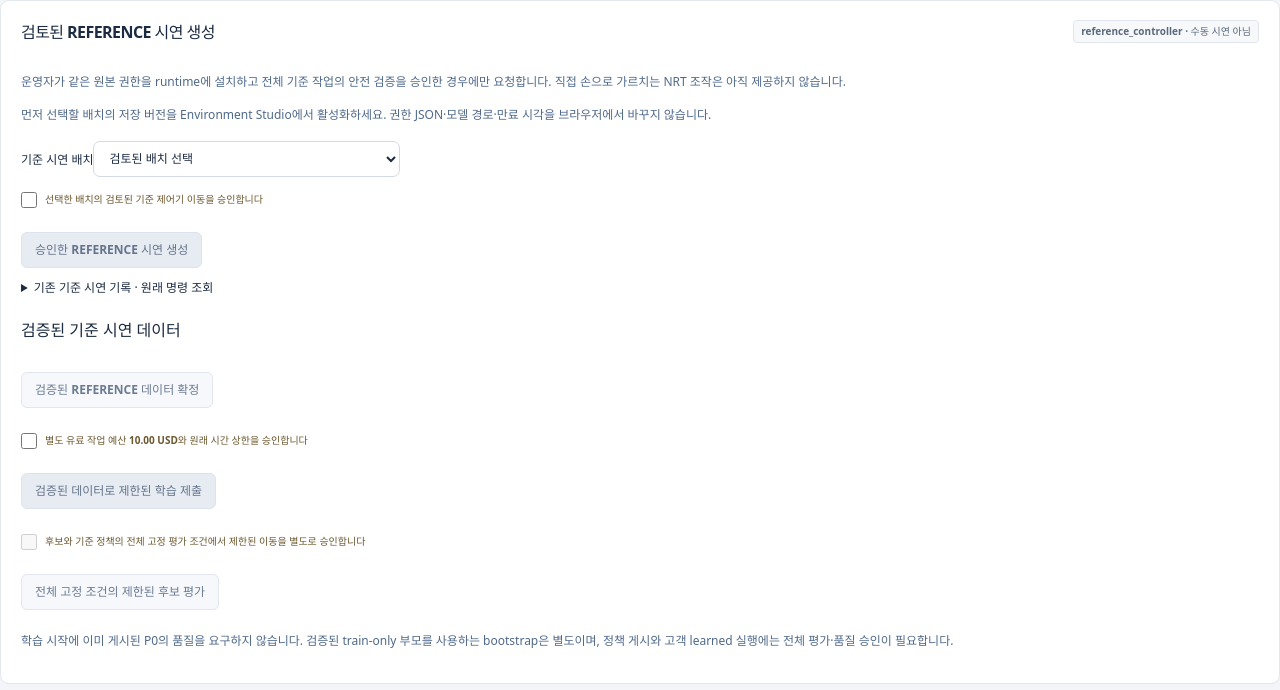
Test: explicit reference generation, not manual NRT teaching › recovers the original collection and reports actual WALL/SIM values without a new start
The width and height of the screenshot is (1280, 690).
Click the heading "기존 기준 시연 기록 · 원래 명령 조회" at [124, 287], box [34,279,213,296]
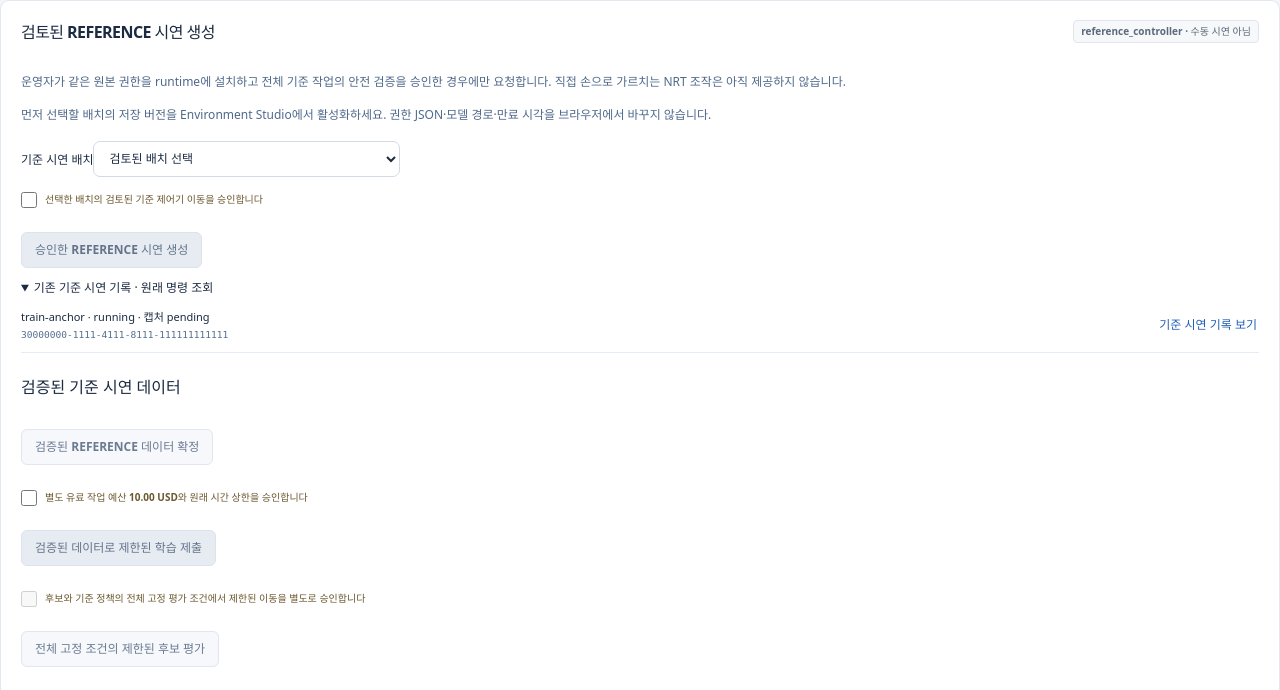
Click the button "기준 시연 기록 보기" at [1208, 324], box [1157,308,1259,340]
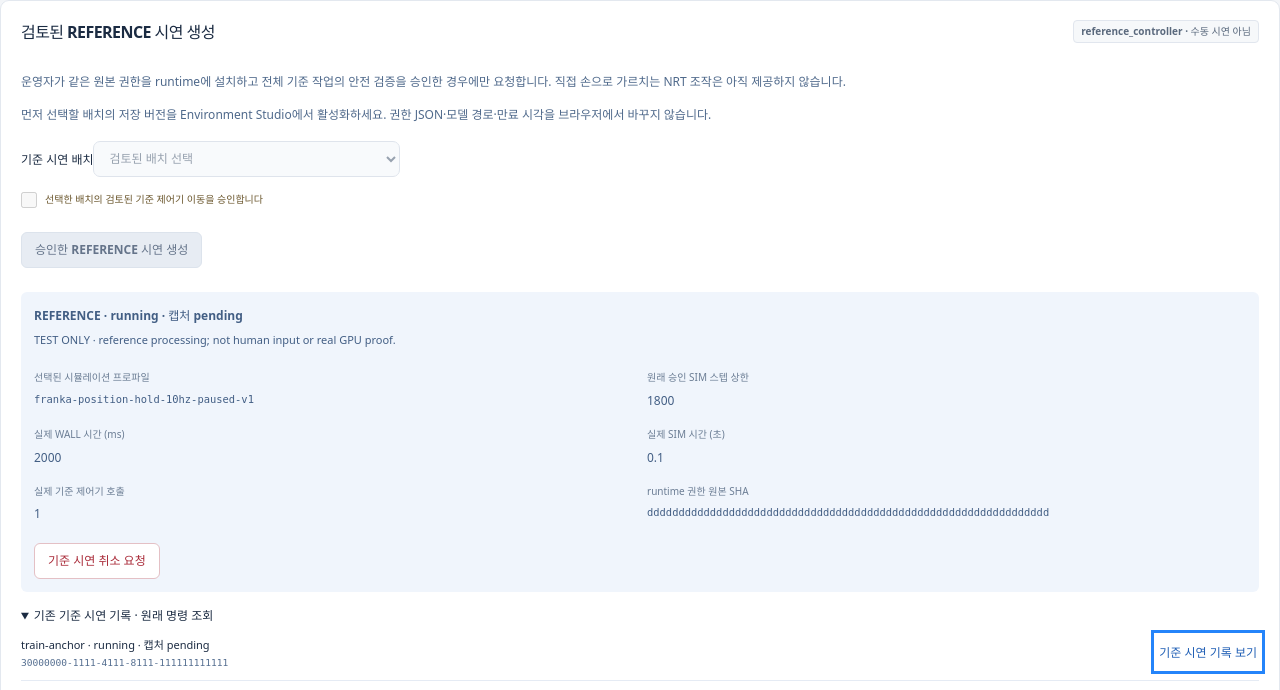
Expected: the text "REFERENCE · running · 캡처 pending" is shown, [34,307,243,324]
Expected: the text "2000" is shown, [34,448,62,466]
Expected: the text "0.1" is shown, [647,448,664,466]
